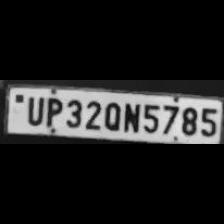2: (83, 98, 101, 130)
3: (62, 96, 82, 128)
5: (198, 103, 218, 137), (140, 100, 160, 132)
7: (160, 102, 178, 136)
8: (178, 104, 198, 136)
N: (121, 100, 139, 132)
P: (42, 96, 62, 127)
Q: (102, 99, 120, 130)
U: (23, 93, 43, 125)
